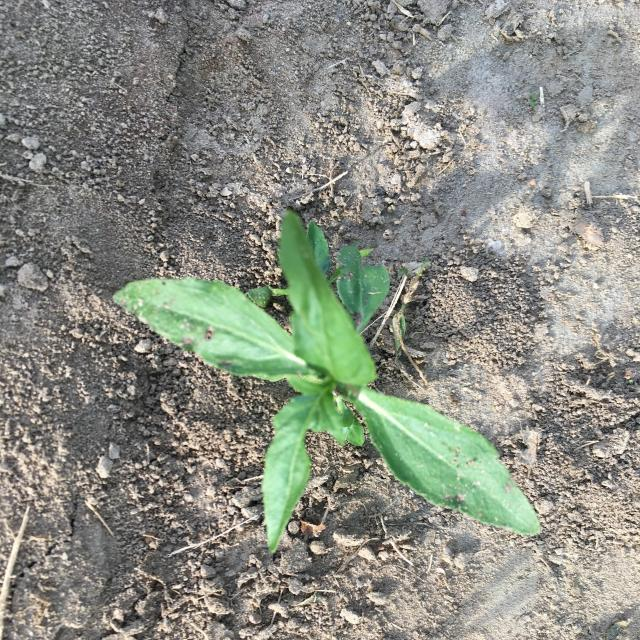Eclipta: (112, 211, 540, 553)
